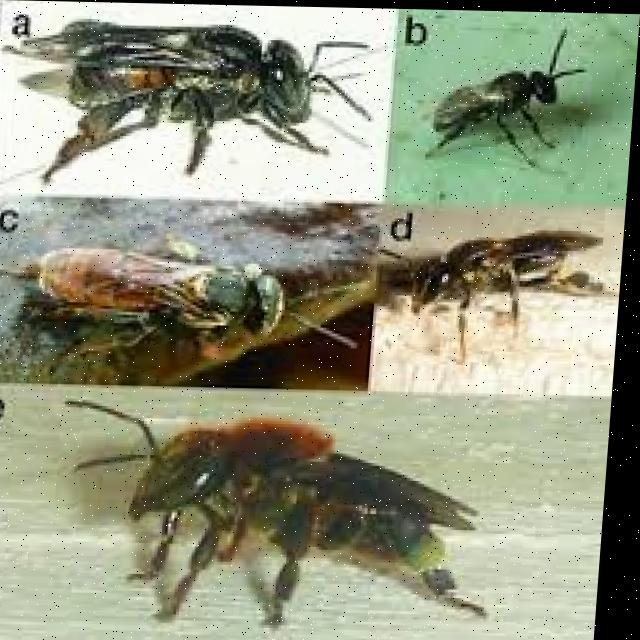Meliponula: (75, 391, 539, 640), (13, 3, 367, 183), (12, 229, 315, 354), (418, 202, 606, 359), (425, 32, 589, 158)
